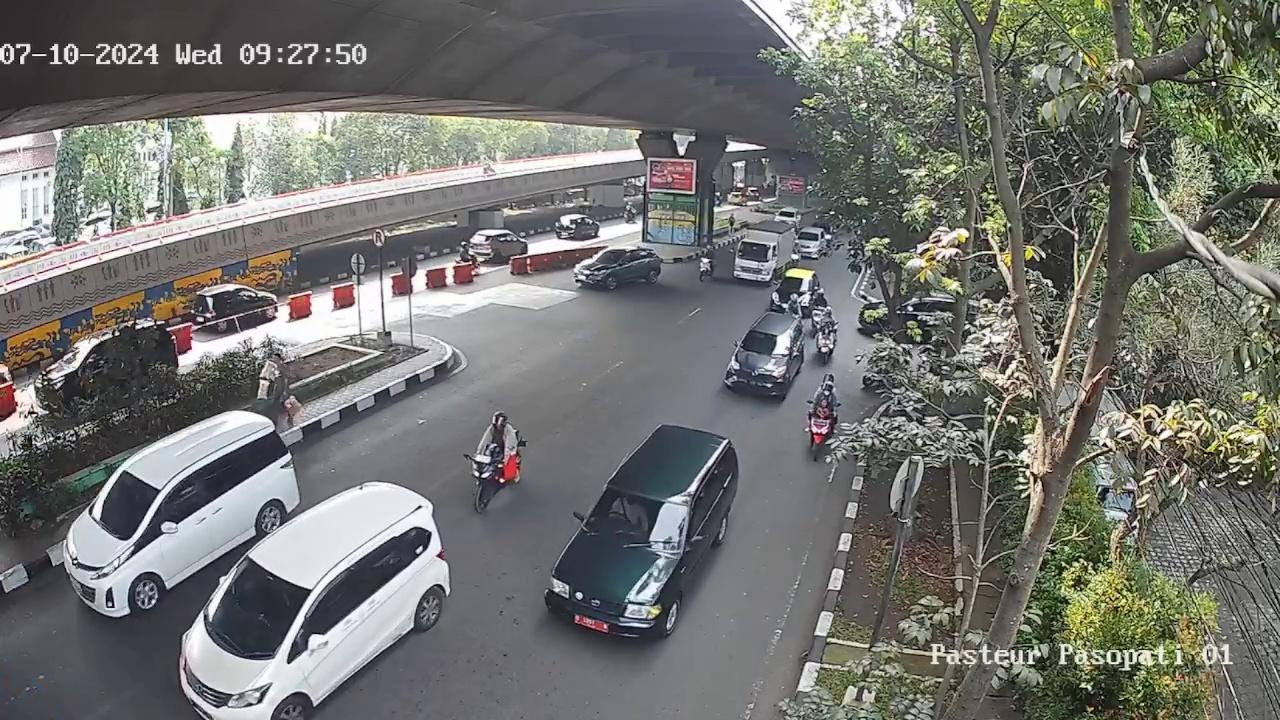pakai: (605, 495, 653, 533)
windshield: (202, 553, 314, 651), (587, 482, 691, 550), (89, 469, 167, 526), (737, 327, 795, 356)
